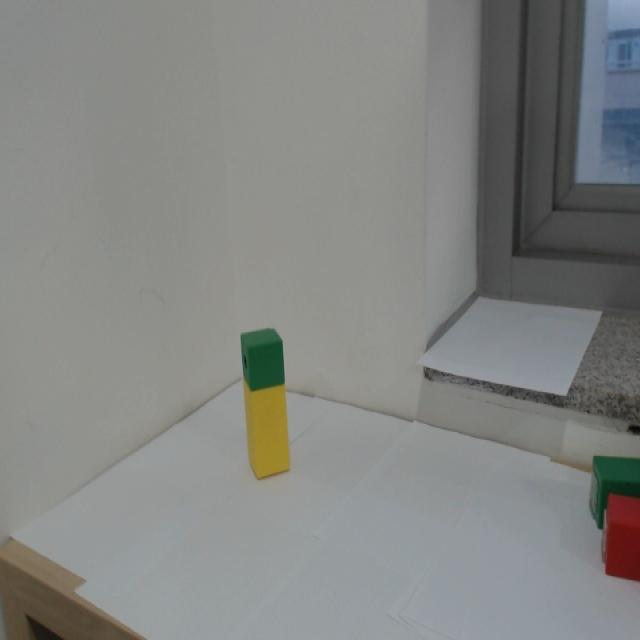cube: (239, 325, 290, 395)
